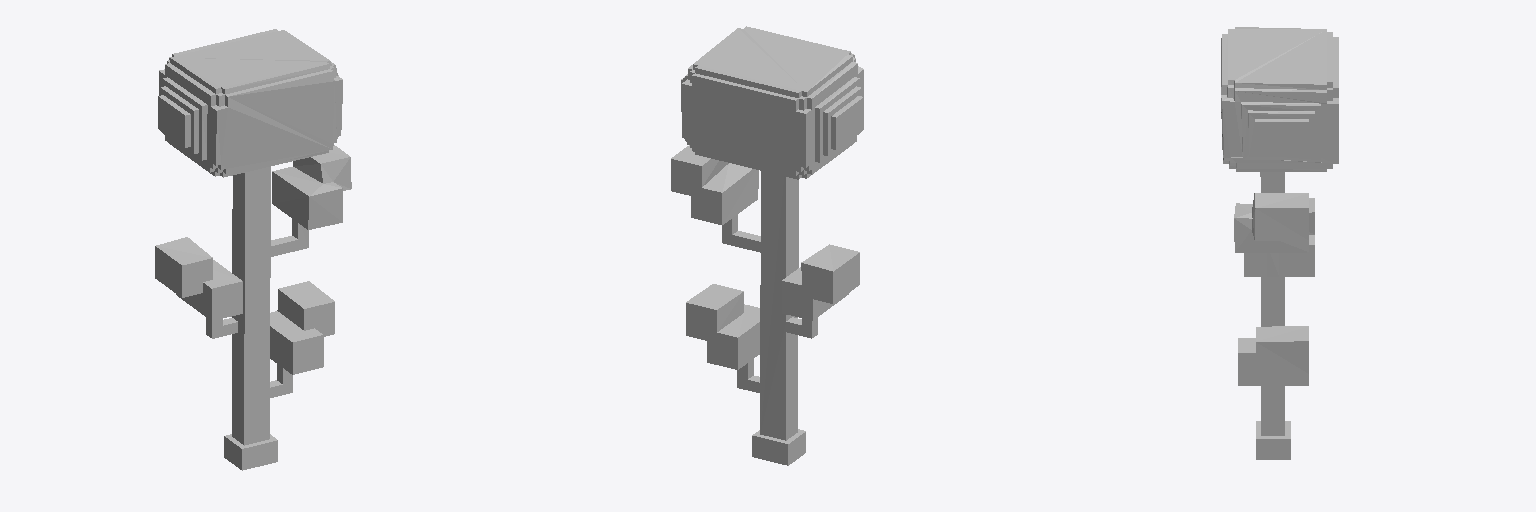
Rendered from arbol_verde.mtl.obj.
3 views of the same model, side by side, from view 1: azimuth 30°, elevation 25°; view 2: azimuth 150°, elevation 25°; view 3: azimuth 270°, elevation 25° (orthographic).
Parts seen in each view (by area): view 1: Untitled.001; view 2: Untitled.001; view 3: Untitled.001.
Part boxes in pixels (x1,y1,x2,y2): Untitled.001: (155,29,351,470); Untitled.001: (671,26,863,465); Untitled.001: (1221,27,1338,459).
Bounding box in the file's own units: 3.21 × 7.36 × 1.98.